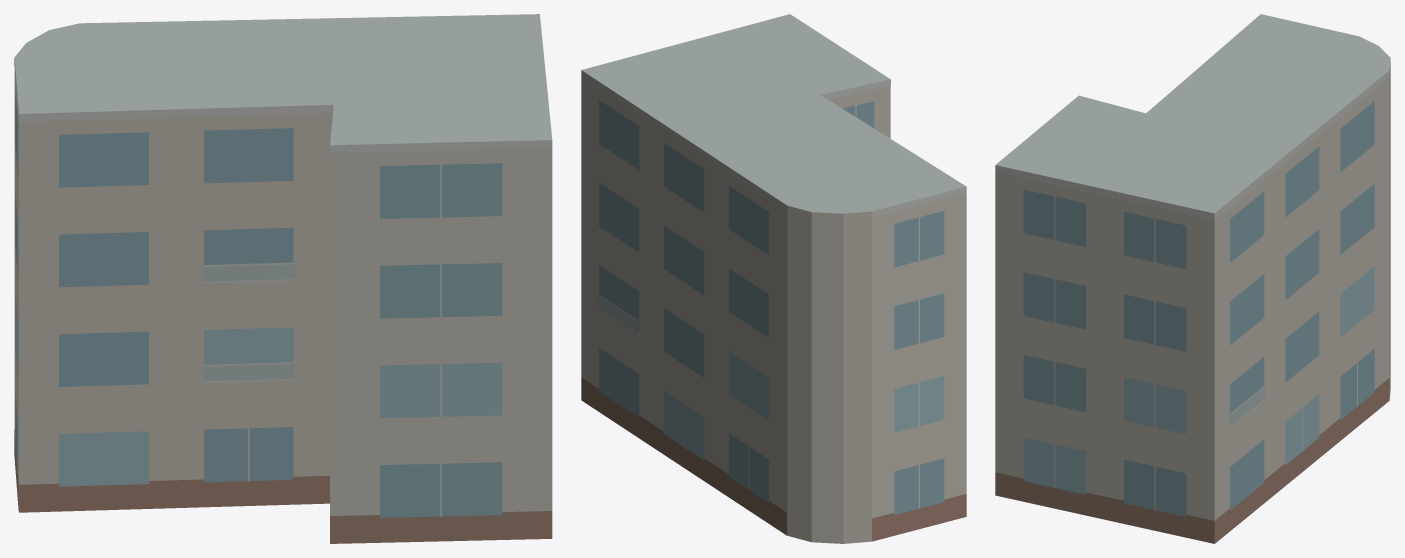
Rendered from survey-upis-32727162.glb.
3 renders of one model, left to right at view 1: azimuth 30°, elevation 25°; view 2: azimuth 150°, elevation 25°; view 3: azimuth 270°, elevation 25°, orthographic. The views are drawn at different scales.
Parts seen in each view (by area): view 1: survey-upis-32727162.tmp; view 2: survey-upis-32727162.tmp; view 3: survey-upis-32727162.tmp.
Boxes of the visible parts, left/top/right/bottom form: survey-upis-32727162.tmp: left=14, top=14, right=552, bottom=543; survey-upis-32727162.tmp: left=581, top=14, right=966, bottom=543; survey-upis-32727162.tmp: left=995, top=14, right=1390, bottom=543.
Size of the model in its own units: 15.8 by 12.2 by 13.23.
